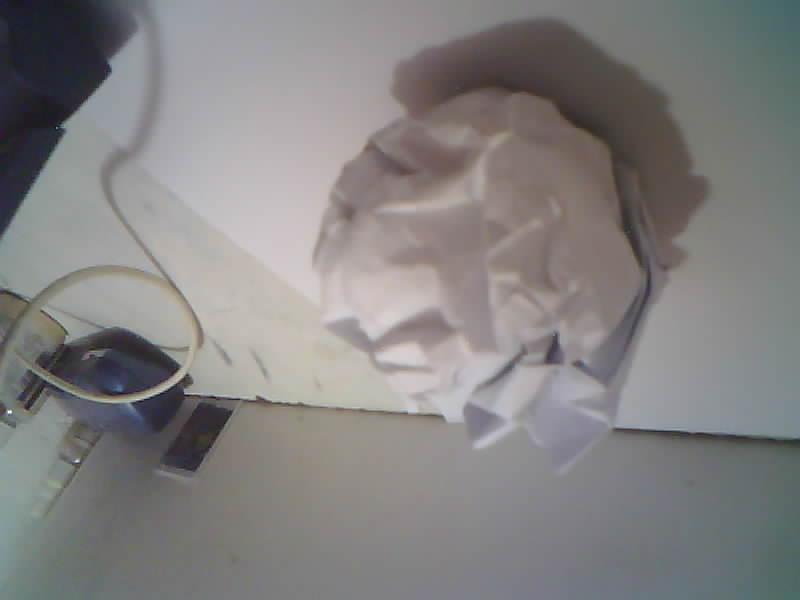biodegradable: (313, 88, 665, 470)
